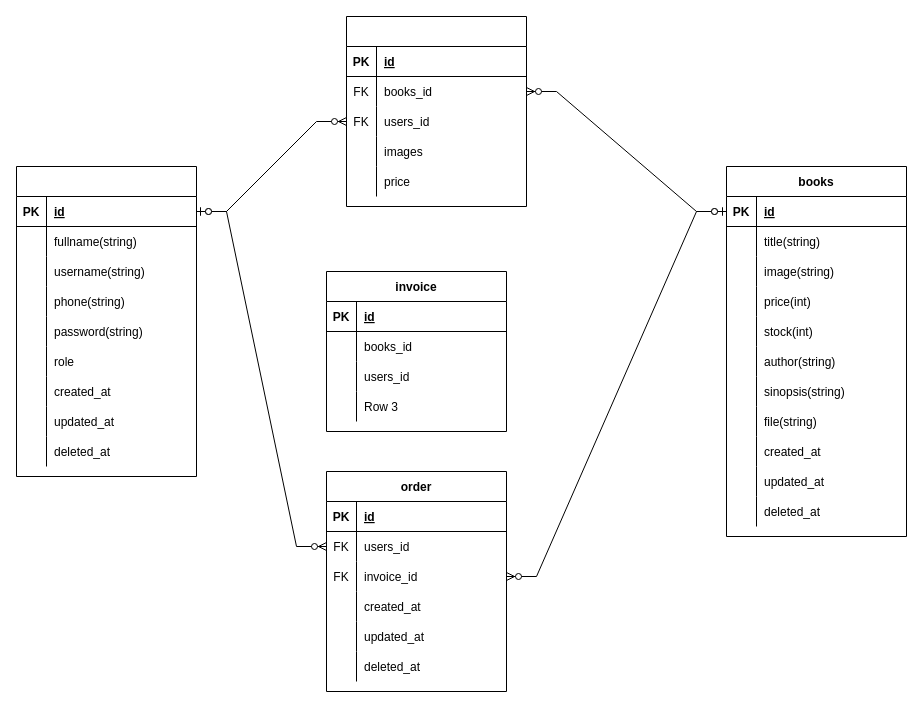
Some shapes in this 923 by 708 pixel diagram are drawn without their labels. The shapes that lost their labels are listed below. From the top down, each one's box as (x1, y1, x2, y2) in pixels, then its label:
(346, 16, 526, 206): cart
(16, 166, 196, 476): users
